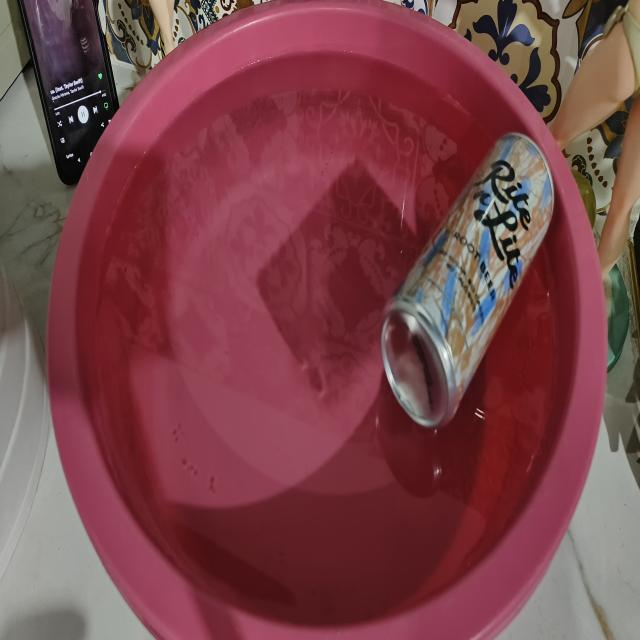Aluminum Can: (381, 133, 554, 428)
